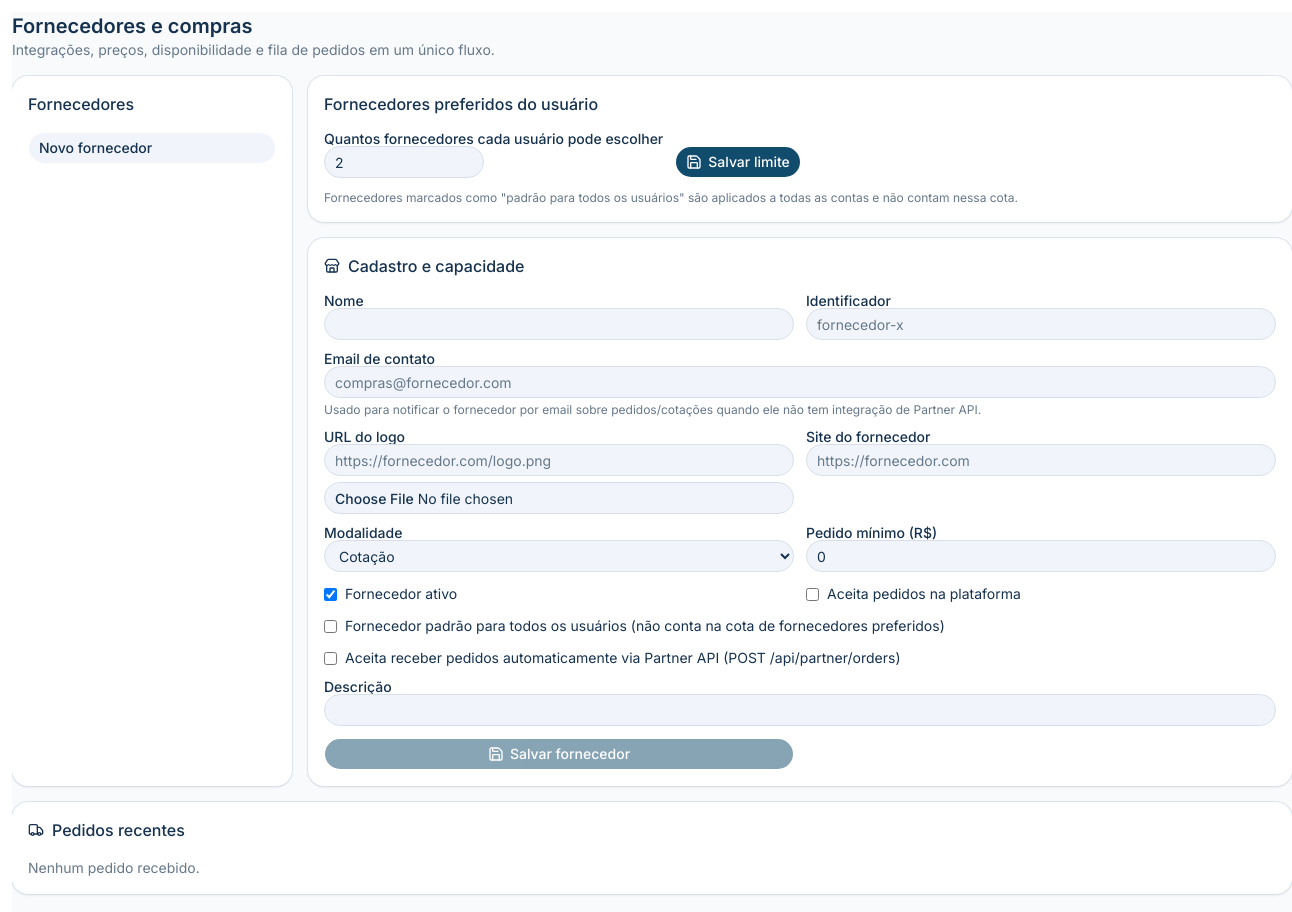
SuppliersEditor: preferred supplier quota › shows the error message when saving the limit fails
Expected: the heading "Fornecedores e compras" is shown, 12,14 -> 252,38
Click the button "Salvar limite". click: [738, 162]
box: 675,146 -> 801,178
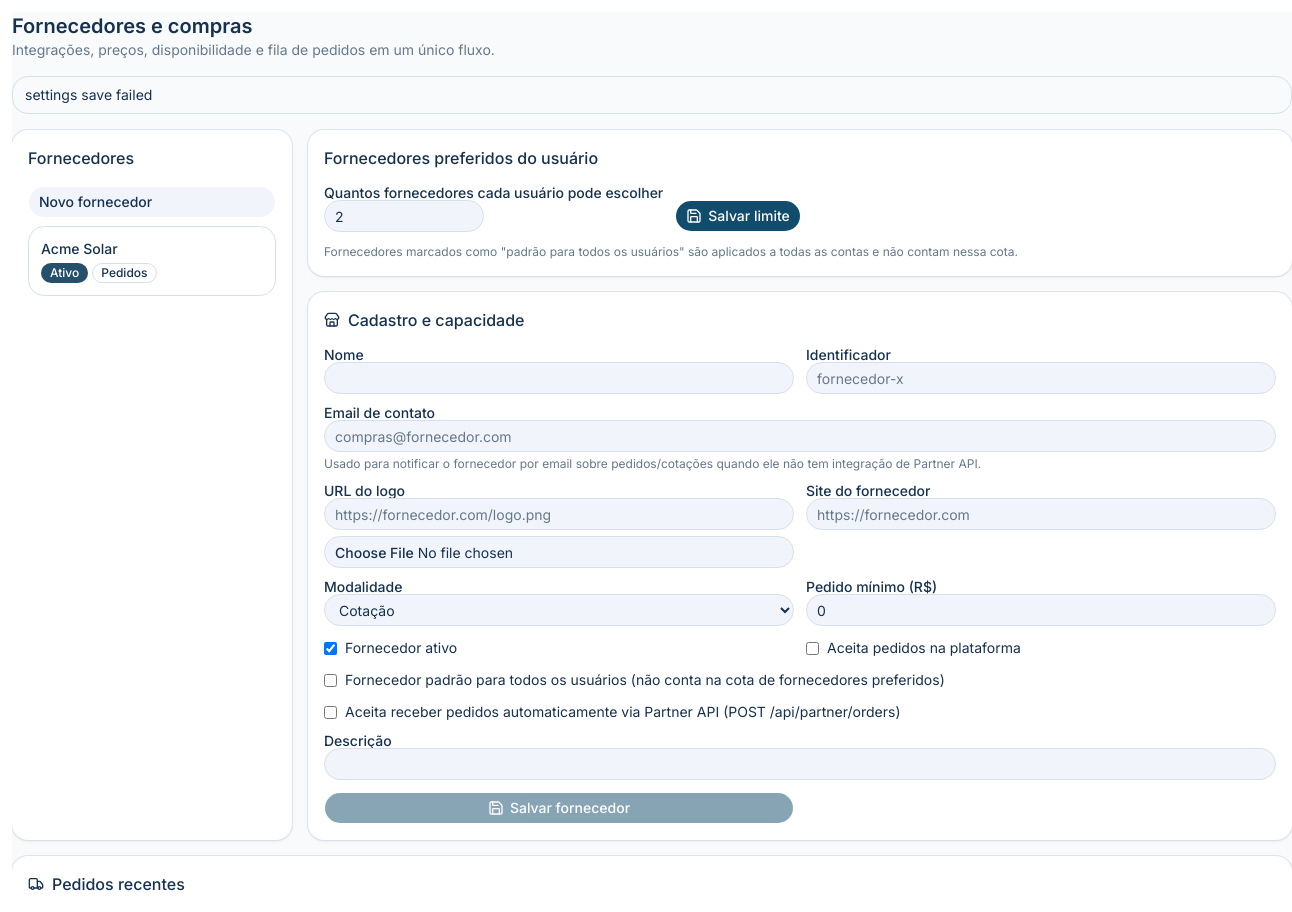
Result: the message reads "settings save failed" at 25,86 -> 152,103
